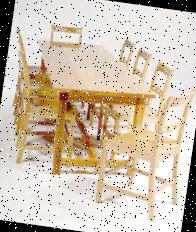Mesa: (19, 37, 156, 183)
Silla: (92, 75, 195, 228), (1, 49, 92, 172), (107, 57, 177, 171), (84, 41, 155, 144)
